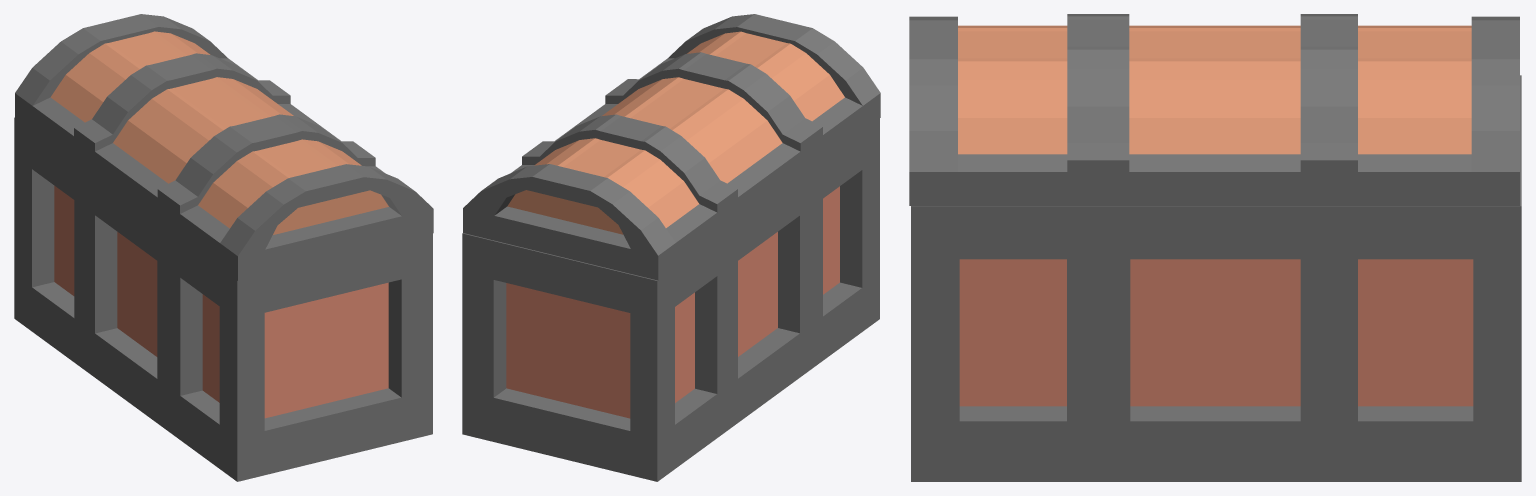
Rendered from TreasureChest.fbx.
The picture shows the model from 3 angles, left to right: view 1: azimuth 30°, elevation 25°; view 2: azimuth 150°, elevation 25°; view 3: azimuth 270°, elevation 25°; orthographic projection. The views are drawn at different scales.
Parts seen in each view (by area): view 1: Chest, Tape; view 2: Chest, Tape; view 3: Chest, Tape.
Part boxes in pixels (x1=…): Chest: x1=14, y1=117, x2=432, y2=481; Tape: x1=15, y1=14, x2=433, y2=280; Chest: x1=462, y1=118, x2=879, y2=481; Tape: x1=463, y1=14, x2=880, y2=280; Chest: x1=911, y1=75, x2=1521, y2=481; Tape: x1=909, y1=14, x2=1519, y2=205.
Bounding box in the file's own units: 87.7 × 120 × 173.
